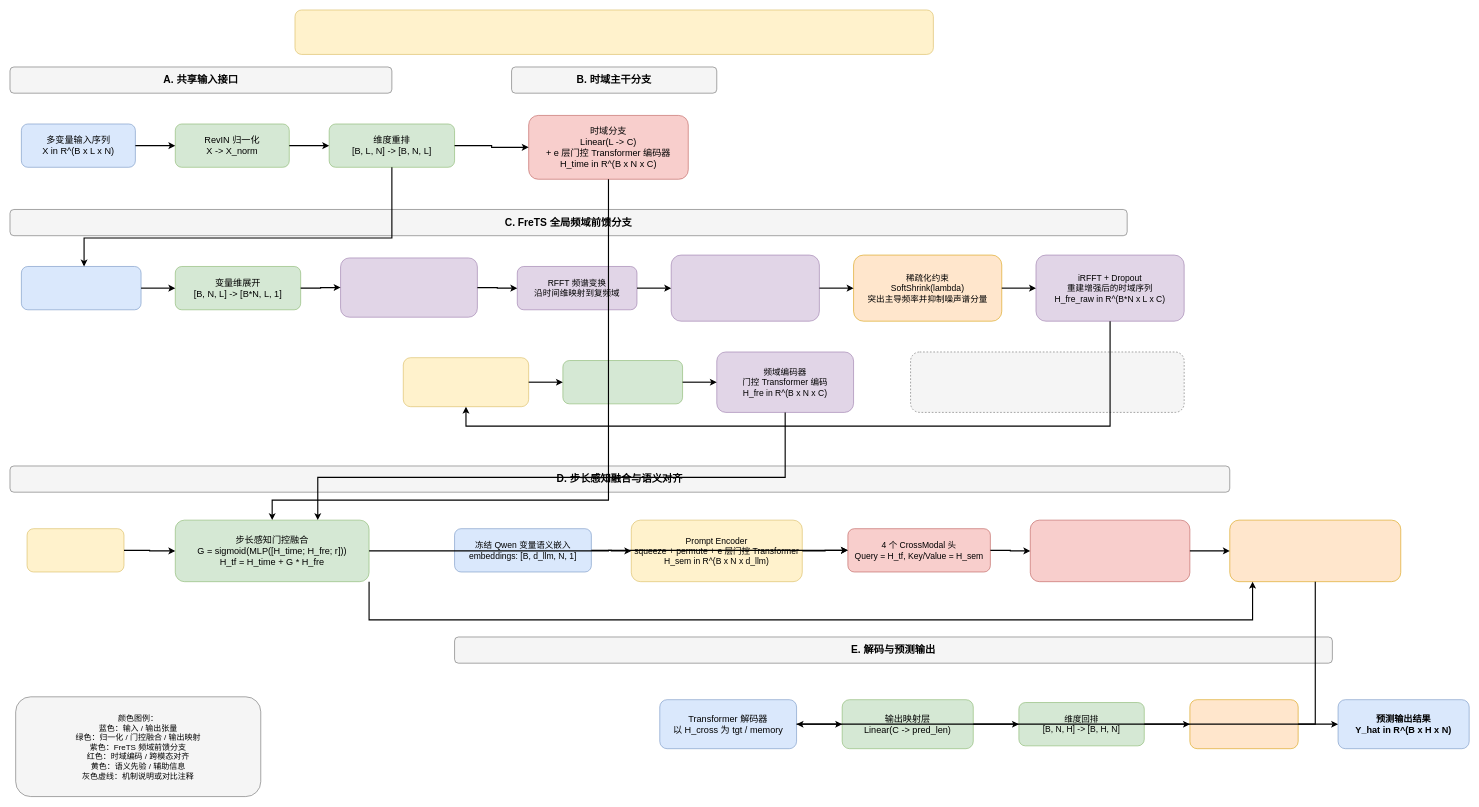
This 1479x807 diagram has some shape labels left out. Each missing label, with the box of its shape:
Adaptive Dynamic Heads CMA 动态聚合多头跨模态结果 H_cma: (1030, 520, 1190, 582)
Attention Pooling 按变量汇聚全局频谱描述向量: (403, 357, 529, 407)
RevIN 反归一化: (1189, 699, 1298, 749)
复数线性变换 Re/Im 分量分别由可学习矩阵 R, I, b_r, b_i 建模: (671, 255, 819, 321)
形状恢复 [B*N, C] -> [B, N, C]: (562, 360, 683, 404)
核心思想：直接在全局频谱空间进行可学习变换、稀疏筛选与重建 相较于第四章的小波包路线，这里更强调主导周期与长期趋势: (910, 351, 1184, 412)
残差插值融合 H_cross = alpha * H_cma + (1 - alpha) * H_tf: (1229, 520, 1401, 582)
第五章 融合频域前馈网络的时频域增强模型详细结构图 基于 FreTS 频域前馈网络的 T3Time 详细架构: (294, 9, 933, 54)
预测步长先验 r = pred_len / 100: (27, 528, 124, 572)
频域分支输入 X_norm in R^(B x N x L): (21, 266, 141, 310)
频域初始投影 Linear(1 -> C) H^(0) in R^(B*N x L x C): (340, 257, 477, 317)
